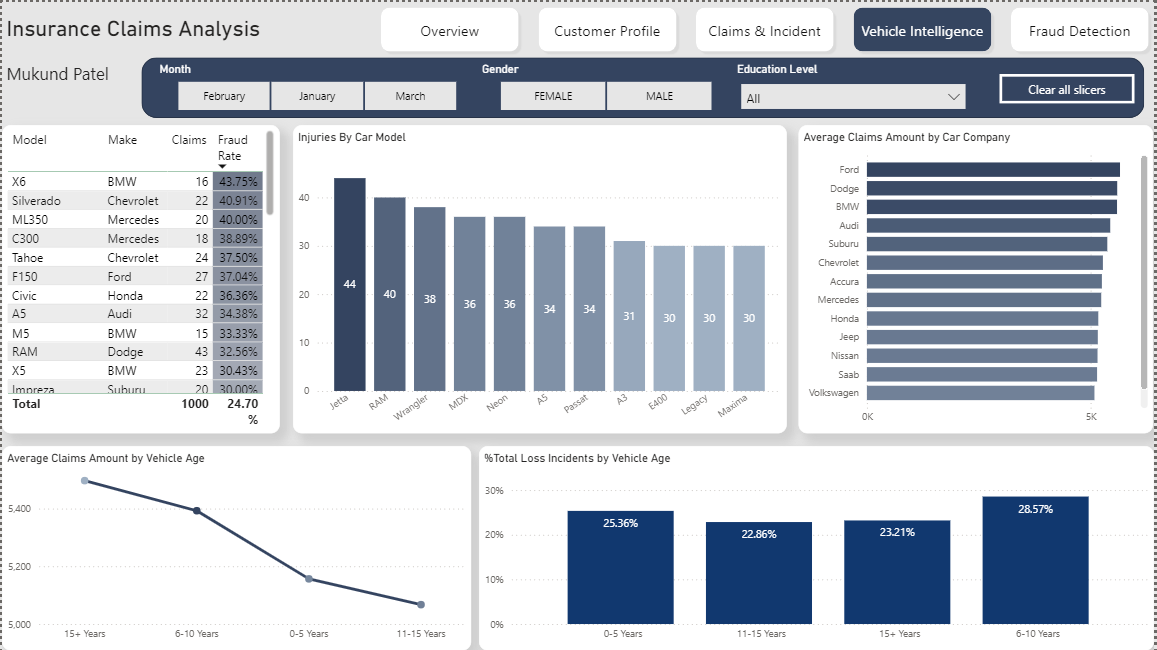

The page's visual inventory and layout, read from the dashboard file:
{"tool":"powerbi","page":{"name":" Vehicle Intelligence","canvas":[1280,720],"ordinal":3},"visuals":[{"type":"tableEx","fields":{"Values":["ClaimsData.auto_model","AutoMakeTable.AutoMake","_Measures.TotalClaims","_Measures.FraudRate"]},"box":[0,137.1,308.6,342.9],"z":0},{"type":"clusteredColumnChart","title":"Injuries By Car Model","fields":{"Category":["ClaimsData.auto_model"],"Y":["Sum(ClaimsData.bodily_injuries)"]},"box":[322.9,137.1,548.6,342.9],"z":1000},{"type":"lineChart","fields":{"Y":["_Measures.AvgTotalClaimsAmount"],"Category":["ClaimsData.VehicleAgeGroup"]},"box":[0,492.9,521.4,227.1],"z":2000},{"type":"clusteredBarChart","fields":{"Category":["ClaimsData.auto_make"],"Y":["_Measures.AvgTotalClaimsAmount"]},"box":[885.7,137.1,394.3,342.9],"z":3000},{"type":"clusteredColumnChart","title":"%Total Loss Incidents by Vehicle Age","fields":{"Category":["ClaimsData.VehicleAgeGroup"],"Series":["IncidentSeverityTable.Severity"],"Y":["_Measures.TotalClaims"]},"box":[530,492.9,750,227.1],"z":4000},{"type":"textbox","box":[0,10,414.3,44.3],"z":5000},{"type":"textbox","box":[0,61.4,261.4,35.7],"z":6000},{"type":"pageNavigator","box":[414.3,0,865.7,61.4],"z":7000},{"type":"group","id":"g1","title":"Slicers","box":[155.7,61.4,1114.3,67.1],"z":8000},{"type":"shape","box":[155.7,61.4,1114.3,67.1],"z":12000,"group":"g1"},{"type":"slicer","title":"Month","fields":{"Values":["DateTable.Month"]},"box":[170,65.7,358.6,60],"z":13000,"group":"g1"},{"type":"slicer","title":"Gender","fields":{"Values":["ClaimsData.insured_sex"]},"box":[528.6,65.7,284.3,60],"z":14000,"group":"g1"},{"type":"slicer","title":"Education Level","fields":{"Values":["ClaimsData.EducationGroup"]},"box":[812.8,65.7,268.6,55.7],"z":15000,"group":"g1"},{"type":"actionButton","box":[1108.6,80,150,32.9],"z":16000,"group":"g1"}]}

Visuals, with their boxes in screenshot pixels (x1, y1, x2, y2), scaled from the page's 1280x720 canvas onto the 1157x650 screenshot:
tableEx - ClaimsData.auto_model x AutoMakeTable.AutoMake: {"left": 0, "top": 124, "right": 279, "bottom": 433}
"Injuries By Car Model" clusteredColumnChart: {"left": 292, "top": 124, "right": 788, "bottom": 433}
lineChart - _Measures.AvgTotalClaimsAmount x ClaimsData.VehicleAgeGroup: {"left": 0, "top": 445, "right": 471, "bottom": 649}
clusteredBarChart - ClaimsData.auto_make x _Measures.AvgTotalClaimsAmount: {"left": 801, "top": 124, "right": 1156, "bottom": 433}
"%Total Loss Incidents by Vehicle Age" clusteredColumnChart: {"left": 479, "top": 445, "right": 1156, "bottom": 649}
textbox: {"left": 0, "top": 9, "right": 374, "bottom": 49}
textbox: {"left": 0, "top": 55, "right": 236, "bottom": 88}
pageNavigator: {"left": 374, "top": 0, "right": 1156, "bottom": 55}
"Slicers" group: {"left": 141, "top": 55, "right": 1148, "bottom": 116}
shape: {"left": 141, "top": 55, "right": 1148, "bottom": 116}
"Month" slicer: {"left": 154, "top": 59, "right": 478, "bottom": 113}
"Gender" slicer: {"left": 478, "top": 59, "right": 735, "bottom": 113}
"Education Level" slicer: {"left": 735, "top": 59, "right": 977, "bottom": 110}
actionButton: {"left": 1002, "top": 72, "right": 1138, "bottom": 102}
